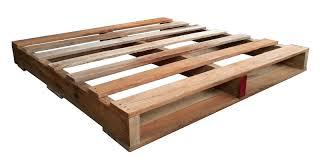wood: (10, 15, 309, 152)
